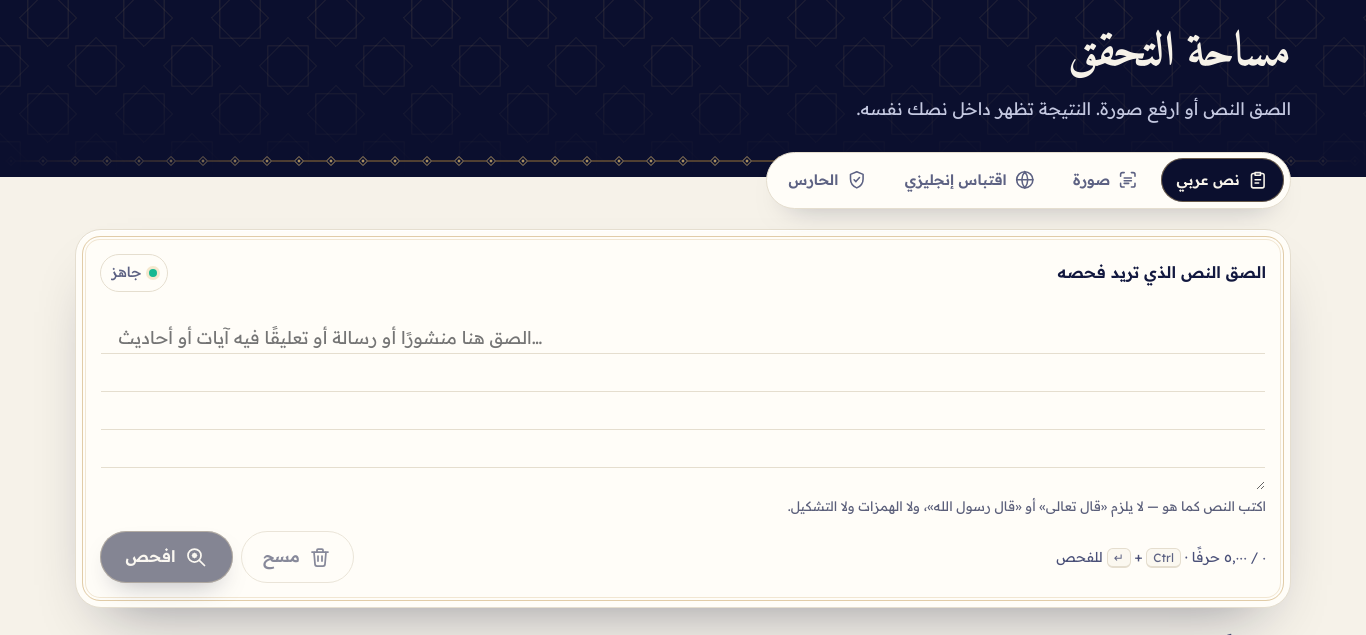
Test: Check page — reveal after check (E-UX-01, E-UX-03) › an error clears the previous report and receives focus
Click the text box labelled "الصق النص الذي تريد فحصه" at (683, 396), box [100,301,1266,491]
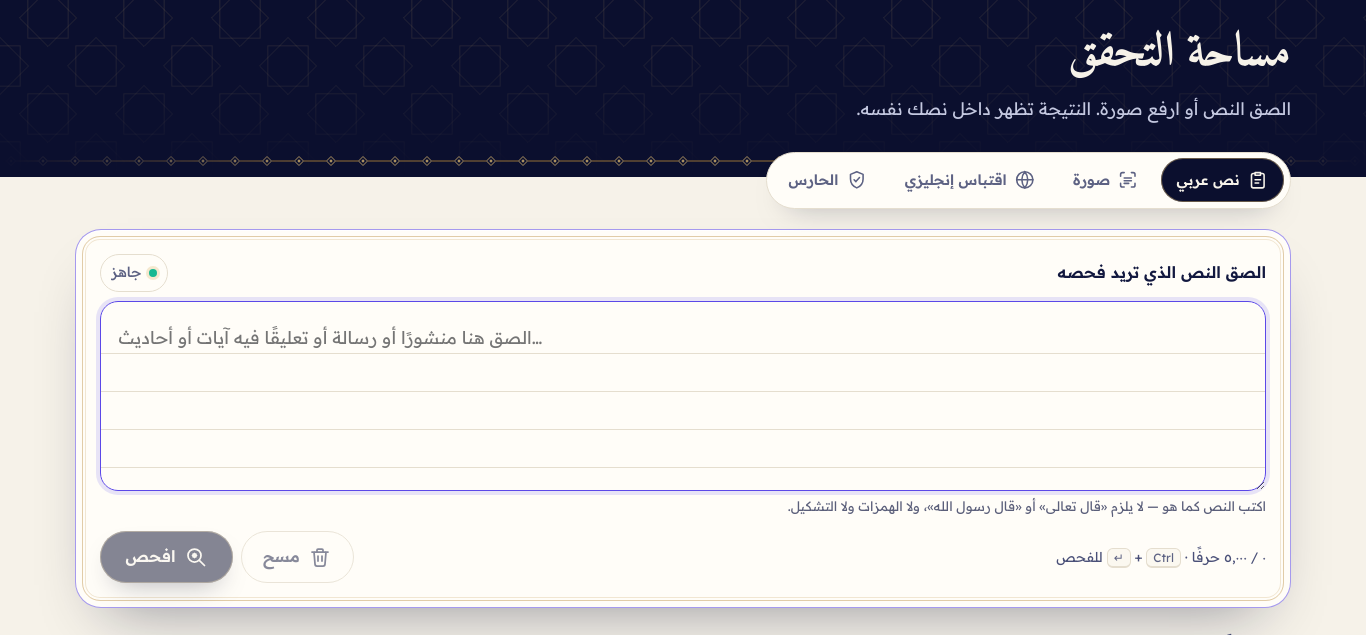
Type keys "قال تعالى: إن الله علي كل شيء قدير. وقال ﷺ: «إنما الأعمال بالنيات» رواه مسلم"
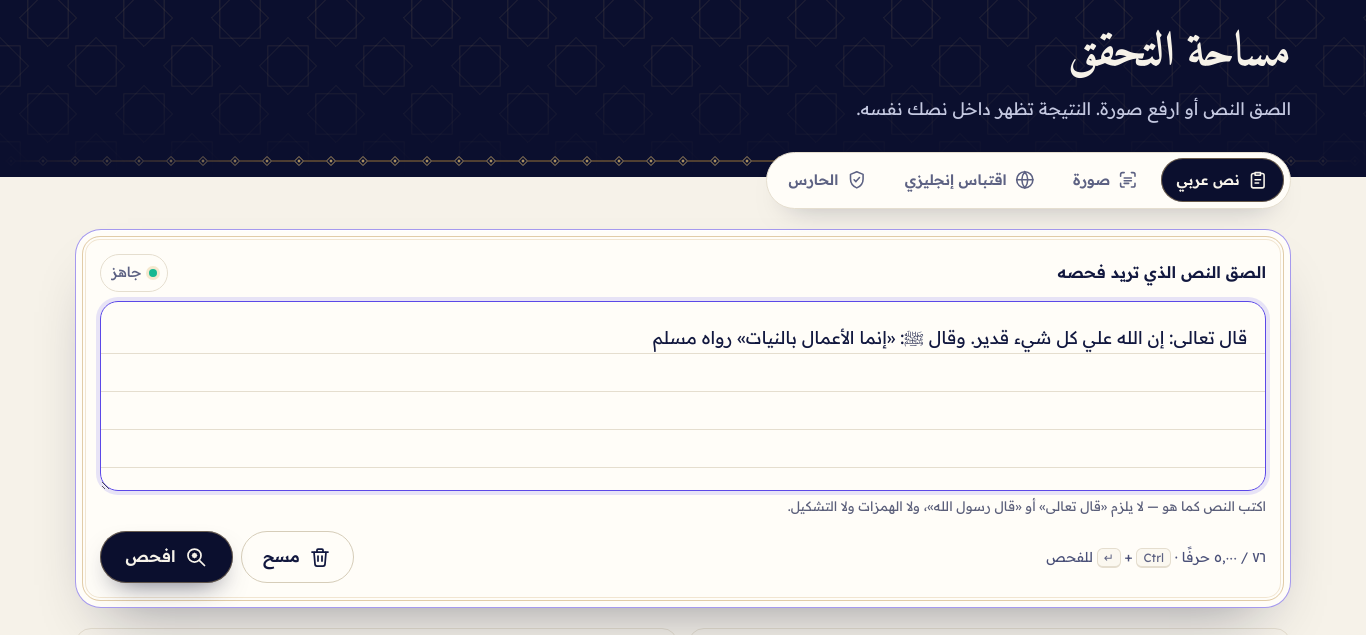
Expected: the text "جاهز" is shown, [111,261,142,285]
Click the button "افحص" at (167, 557), box [100,531,233,583]
(page scrolled)
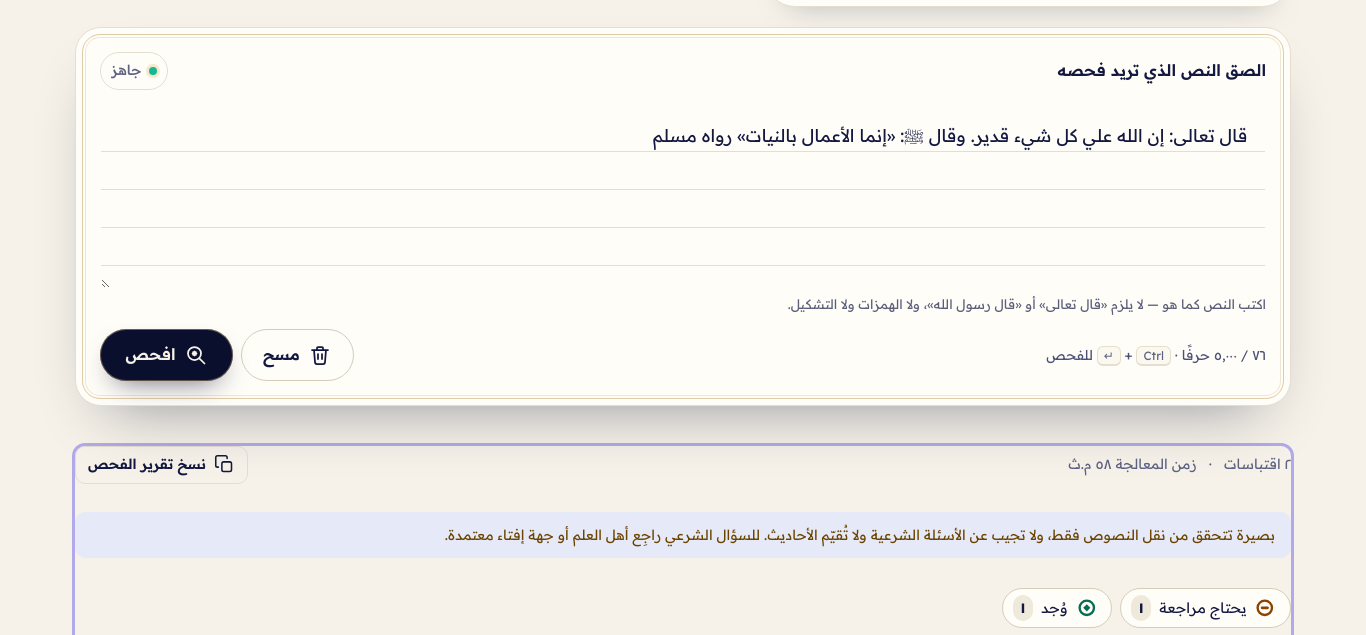
Click the button "افحص" at (167, 355), box [100,329,233,381]
(page scrolled)
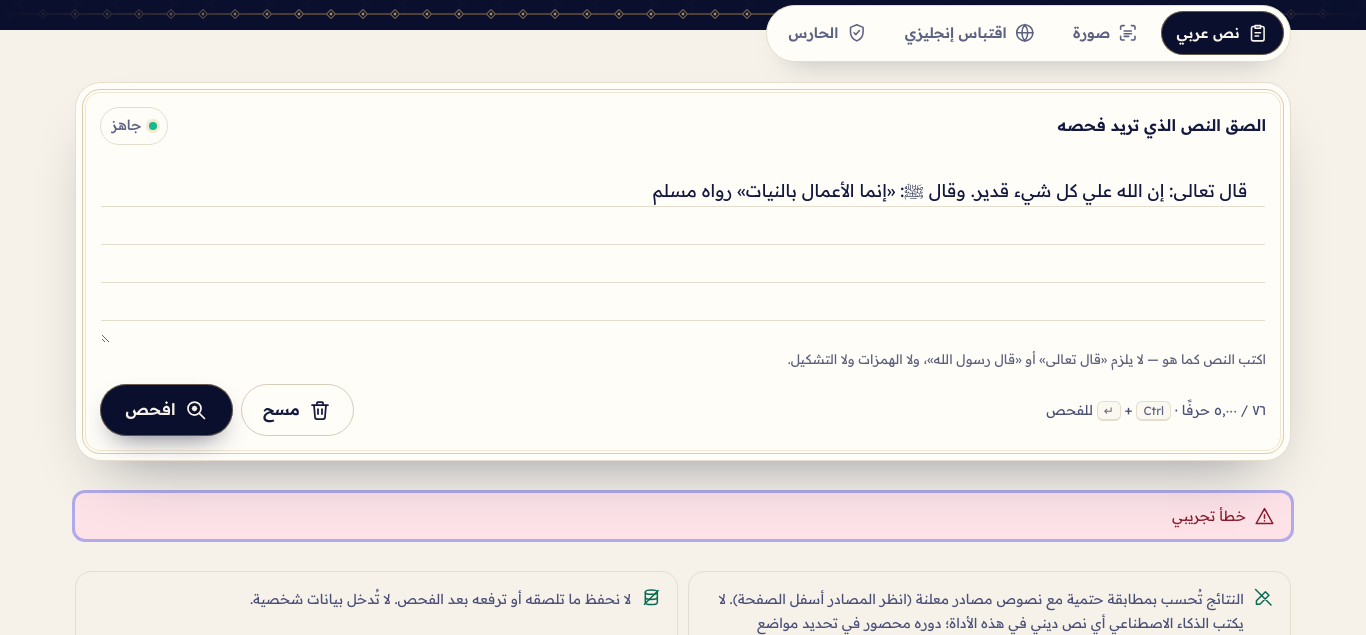
Result: no buttons are shown
